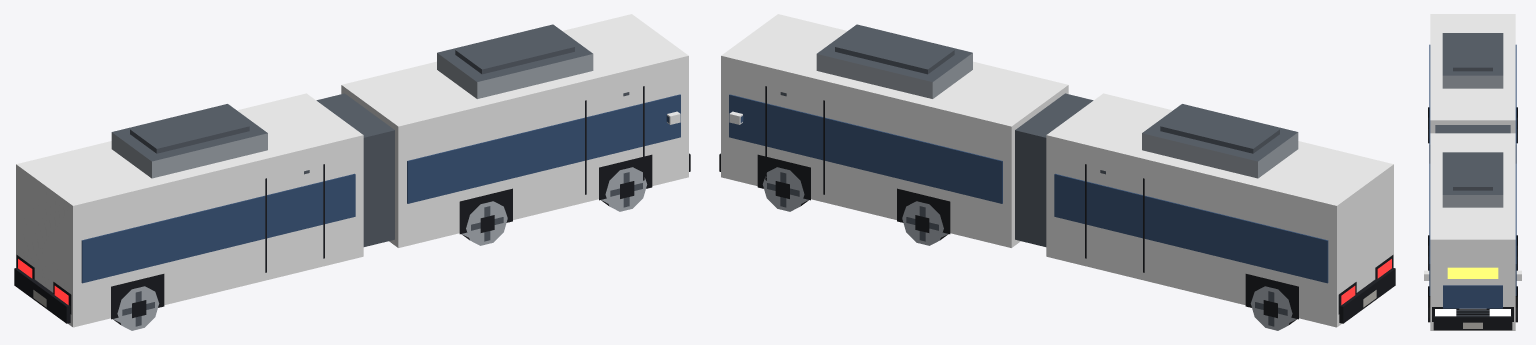
File: bus_articulated.glb
3 renders of one model, left to right at view 1: azimuth 30°, elevation 25°; view 2: azimuth 150°, elevation 25°; view 3: azimuth 270°, elevation 25°, orthographic. The views are drawn at different scales.
Visible parts, largest first — view 1: bus_articulated; view 2: bus_articulated; view 3: bus_articulated.
Part boxes in pixels (x1,y1,x2,y2): bus_articulated: (14, 14, 690, 330); bus_articulated: (719, 14, 1395, 330); bus_articulated: (1424, 14, 1521, 330).
Size of the model in its own units: 1.08 by 0.263 by 0.194.
